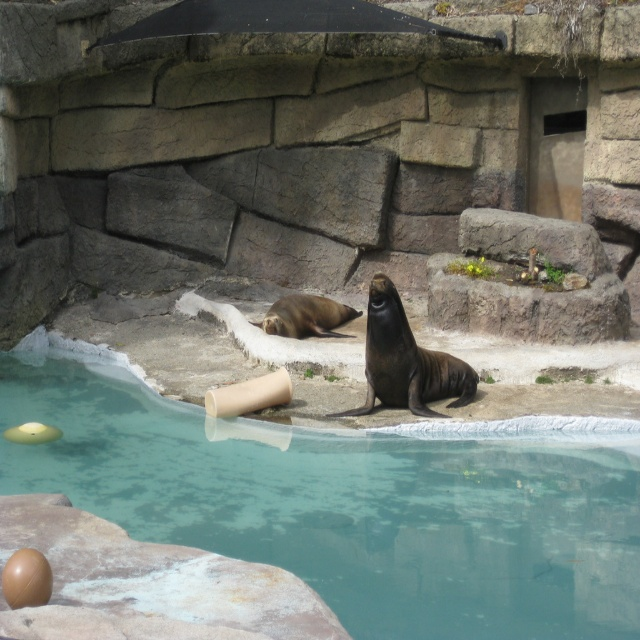Sea lion: (323, 274, 474, 426), (248, 292, 366, 338)
